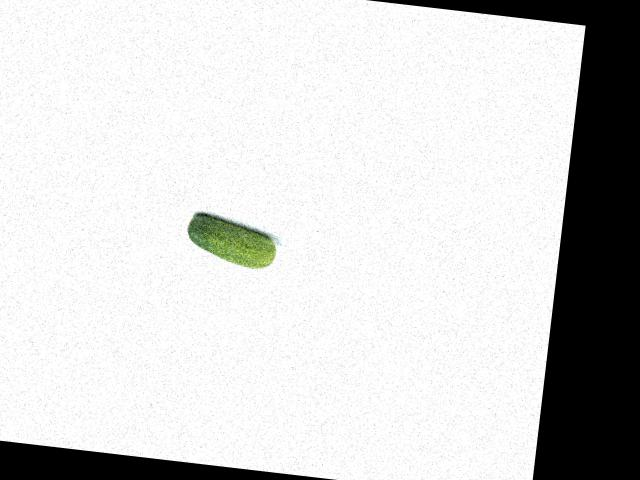cucumber: (184, 212, 279, 270)
